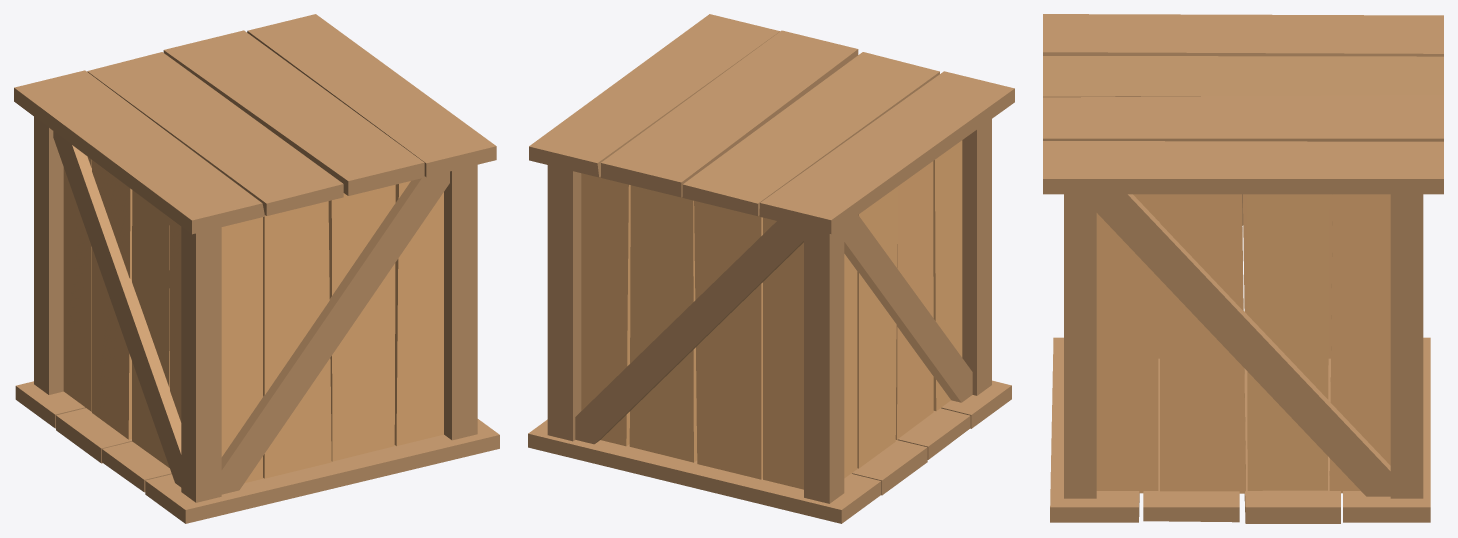
3 renders of one model, left to right at view 1: azimuth 30°, elevation 25°; view 2: azimuth 150°, elevation 25°; view 3: azimuth 270°, elevation 25°, orthographic. The views are drawn at different scales.
Parts seen in each view (by area): view 1: crates.004; view 2: crates.004; view 3: crates.004.
Boxes of the visible parts, x1,y1,x2,y2 form: crates.004: [14, 14, 499, 523]; crates.004: [528, 14, 1014, 523]; crates.004: [1043, 14, 1443, 523].
Bounding box in the file's own units: 231 × 218 × 231.
